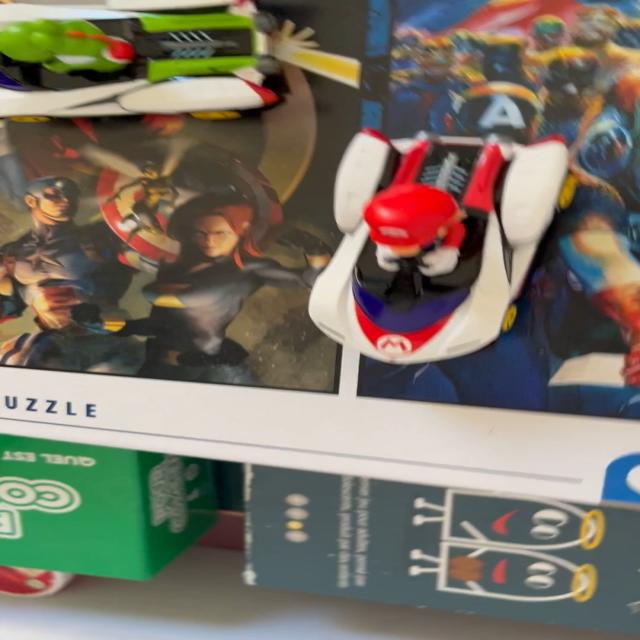mario: (296, 122, 579, 367)
yoshi: (0, 0, 353, 135)
